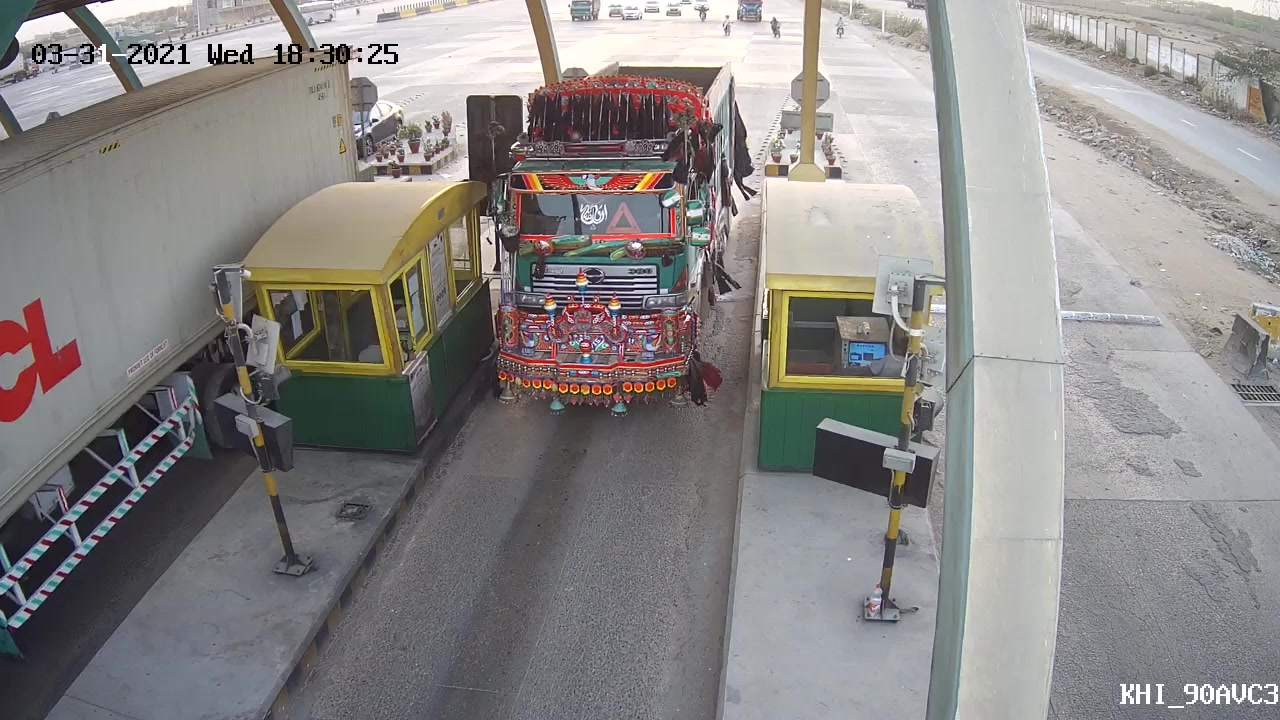F5: (481, 54, 751, 422)
